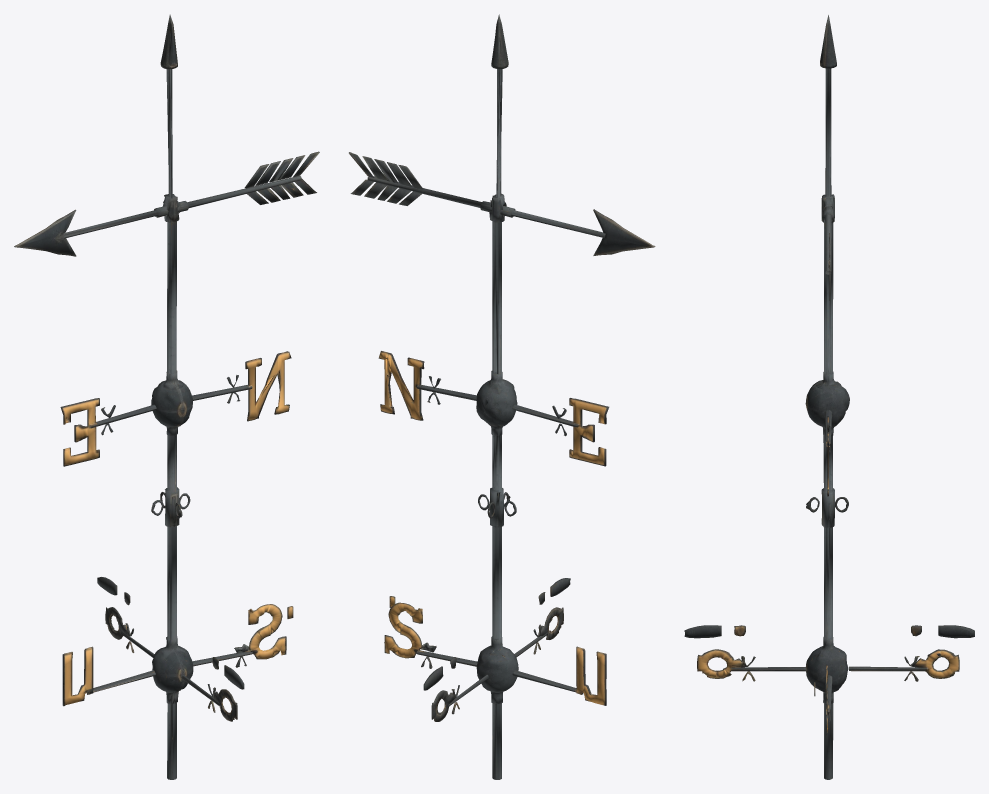
Rendered from weather-vane.glb.
3 renders of one model, left to right at view 1: azimuth 30°, elevation 25°; view 2: azimuth 150°, elevation 25°; view 3: azimuth 270°, elevation 25°, orthographic.
Size of the model in its own units: 0.3974 by 0.9502 by 0.3282.
1 material, 1 textured.
